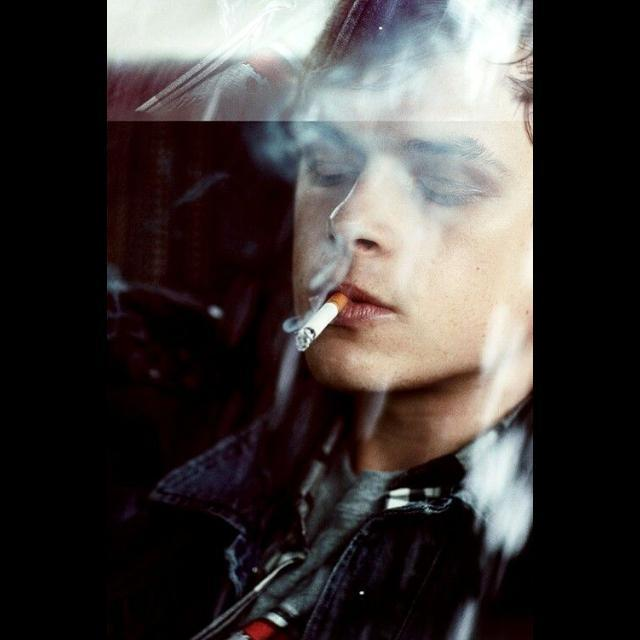rokok: (278, 286, 356, 358)
